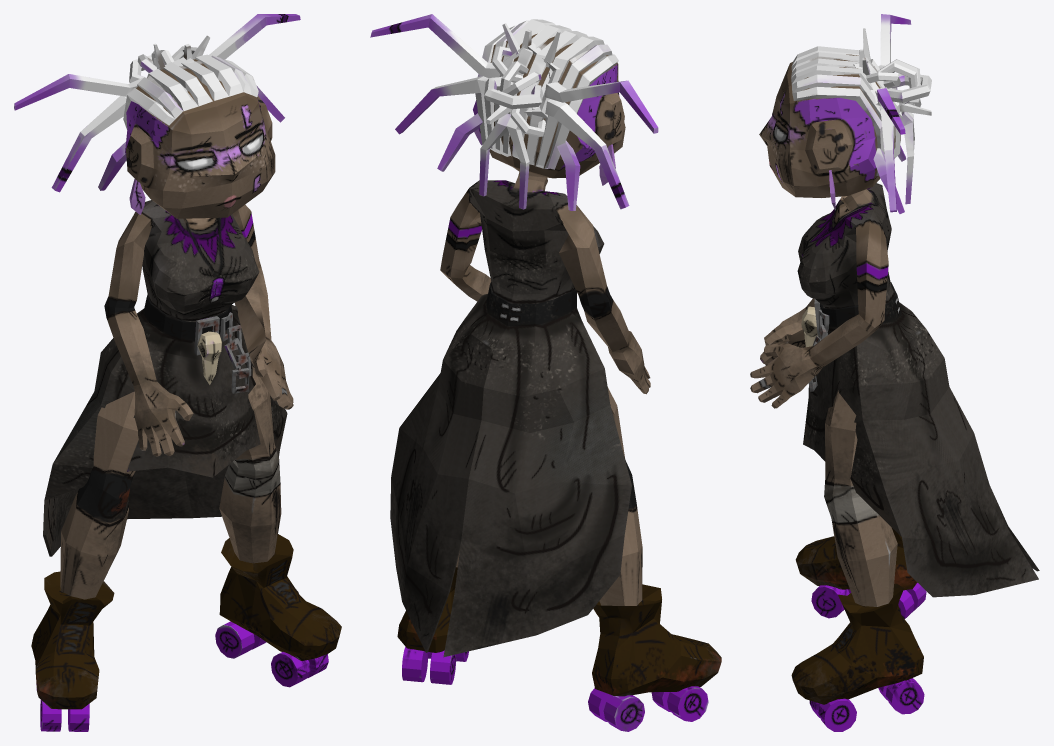
File: bruja_000038.obj
3 renders of one model, left to right at view 1: azimuth 30°, elevation 25°; view 2: azimuth 150°, elevation 25°; view 3: azimuth 270°, elevation 25°, orthographic. The views are drawn at different scales.
Visible parts, largest first — view 1: Bruja_Plane.001; view 2: Bruja_Plane.001; view 3: Bruja_Plane.001.
Part boxes in pixels (x1,y1,x2,y2): Bruja_Plane.001: (14, 14, 341, 731); Bruja_Plane.001: (370, 14, 721, 731); Bruja_Plane.001: (750, 14, 1039, 731).
Bounding box in the file's own units: 7.94 × 16.48 × 6.82.
